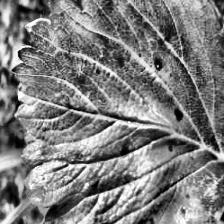Leaf Spot: (11, 0, 224, 224)
